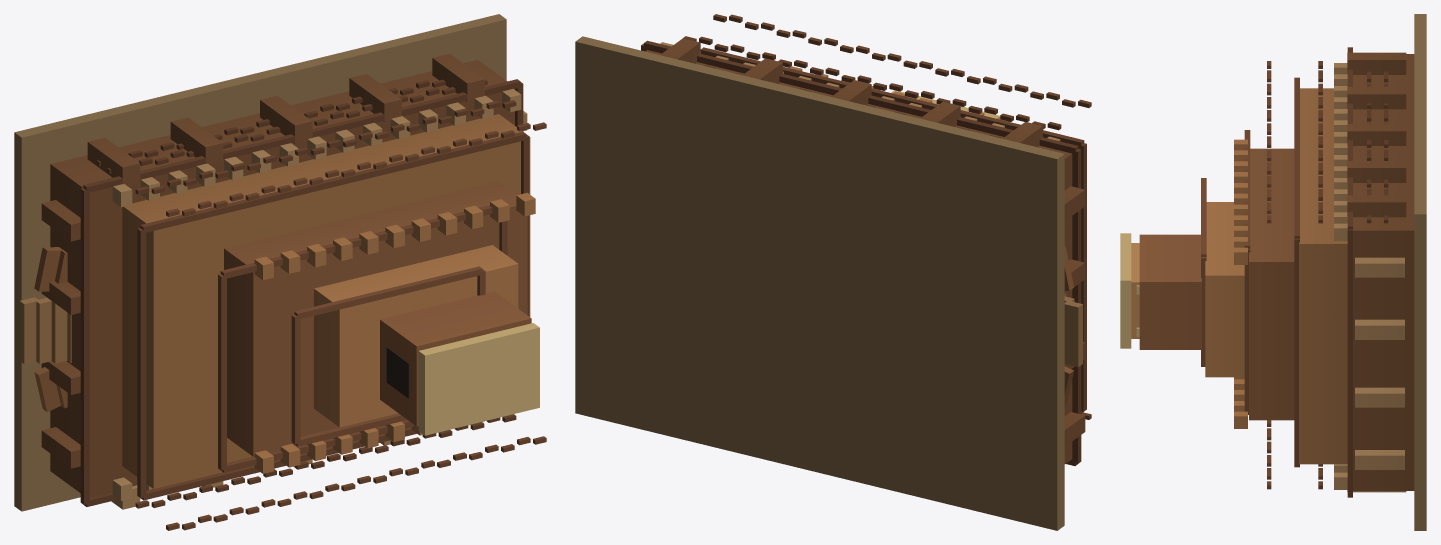
File: ziggurat-ur.glb
3 renders of one model, left to right at view 1: azimuth 30°, elevation 25°; view 2: azimuth 150°, elevation 25°; view 3: azimuth 270°, elevation 25°, orthographic. The views are drawn at different scales.
Parts seen in each view (by area): view 1: part-mud, part-mudShade, part-brick, part-ground, part-cap, part-shrineShade, part-mudLight, part-stair, part-ramp, part-doorway; view 2: part-ground, part-brick, part-mudShade, part-stair; view 3: part-mudShade, part-mud, part-brick, part-shrineShade, part-mudLight, part-ground, part-cap, part-shrine.
Part boxes in pixels (left/top/right/bottom): part-mud: left=122, top=114, right=535, bottom=488; part-mudShade: left=41, top=53, right=527, bottom=497; part-brick: left=80, top=79, right=546, bottom=530; part-ground: left=14, top=14, right=506, bottom=511; part-cap: left=418, top=323, right=539, bottom=435; part-shrineShade: left=380, top=291, right=531, bottom=426; part-mudLight: left=111, top=89, right=527, bottom=509; part-stair: left=19, top=297, right=71, bottom=364; part-ramp: left=34, top=247, right=67, bottom=412; part-doorway: left=386, top=347, right=409, bottom=398; part-ground: left=575, top=36, right=1064, bottom=530; part-brick: left=641, top=14, right=1091, bottom=465; part-mudShade: left=645, top=38, right=1085, bottom=463; part-stair: left=1064, top=293, right=1082, bottom=367; part-mudShade: left=1249, top=52, right=1414, bottom=490; part-mud: left=1205, top=88, right=1347, bottom=464; part-brick: left=1201, top=47, right=1388, bottom=497; part-shrineShade: left=1139, top=234, right=1201, bottom=349; part-mudLight: left=1334, top=63, right=1406, bottom=492; part-ground: left=1414, top=14, right=1426, bottom=530; part-cap: left=1120, top=233, right=1139, bottom=348; part-shrine: left=1131, top=243, right=1139, bottom=338.
Bounding box in the file's own units: 1.55 × 1.12 × 0.9825.
